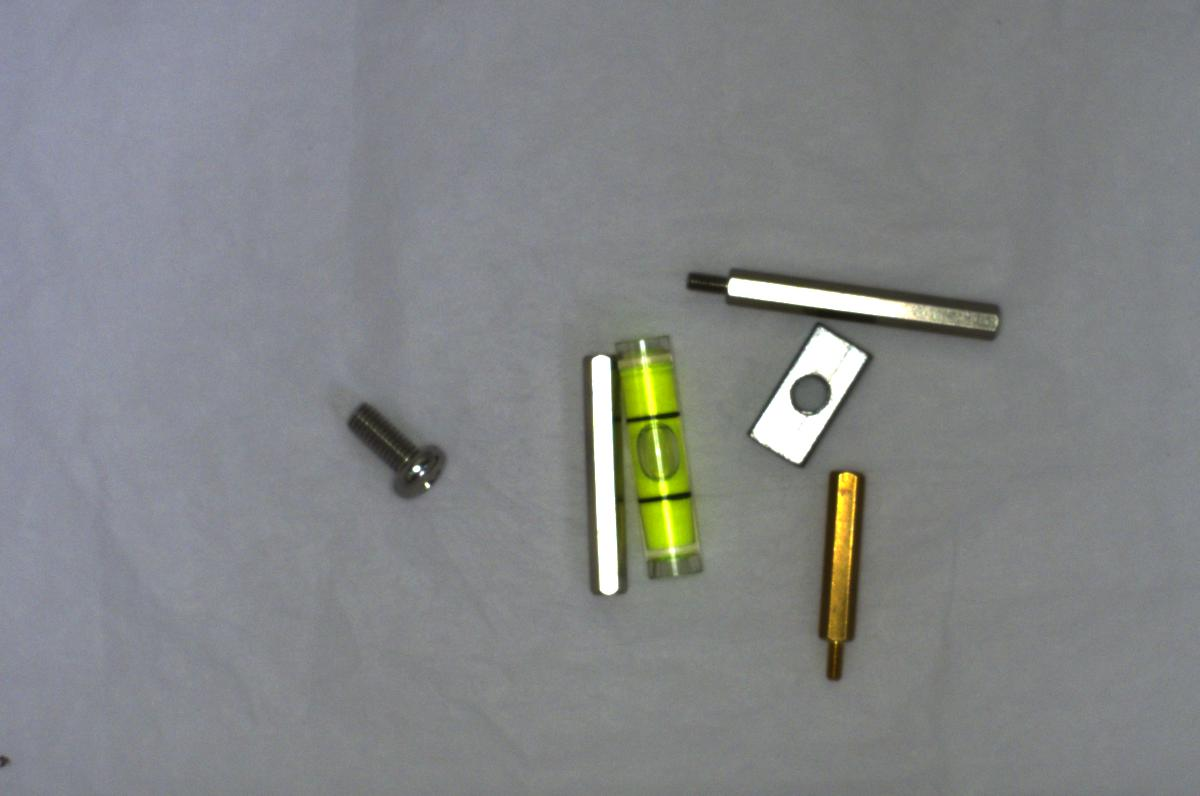Double hexagonal column: (573, 346, 638, 612)
Hexagon pillar: (814, 462, 864, 696)
Hexagonal steel column: (682, 263, 1008, 339)
Horizontal bubble: (612, 329, 714, 588)
Rectangular nut: (742, 320, 864, 469)
Round head screw: (339, 402, 453, 501)
